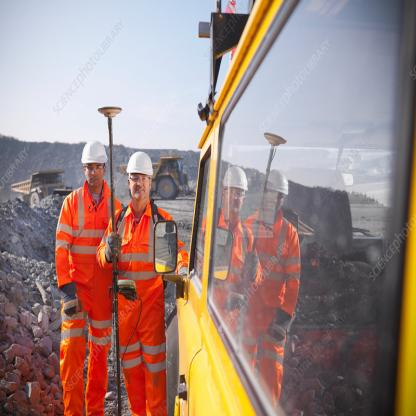person: (41, 116, 142, 415), (97, 149, 192, 415)
